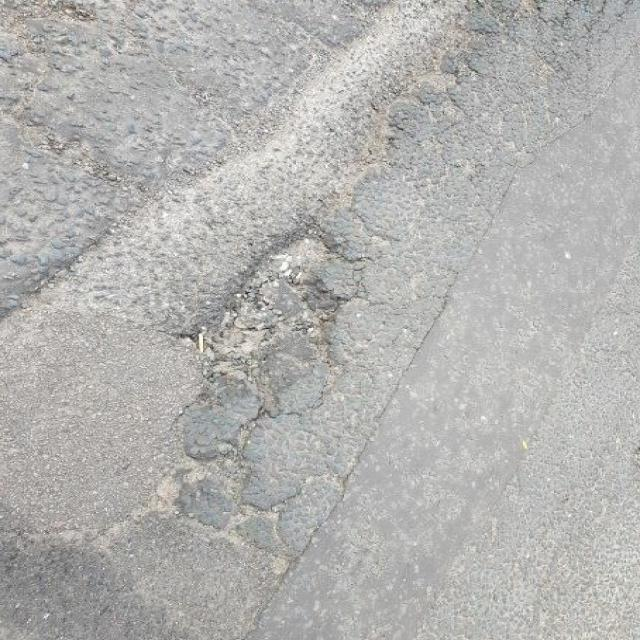Pothole: (167, 203, 387, 386)
